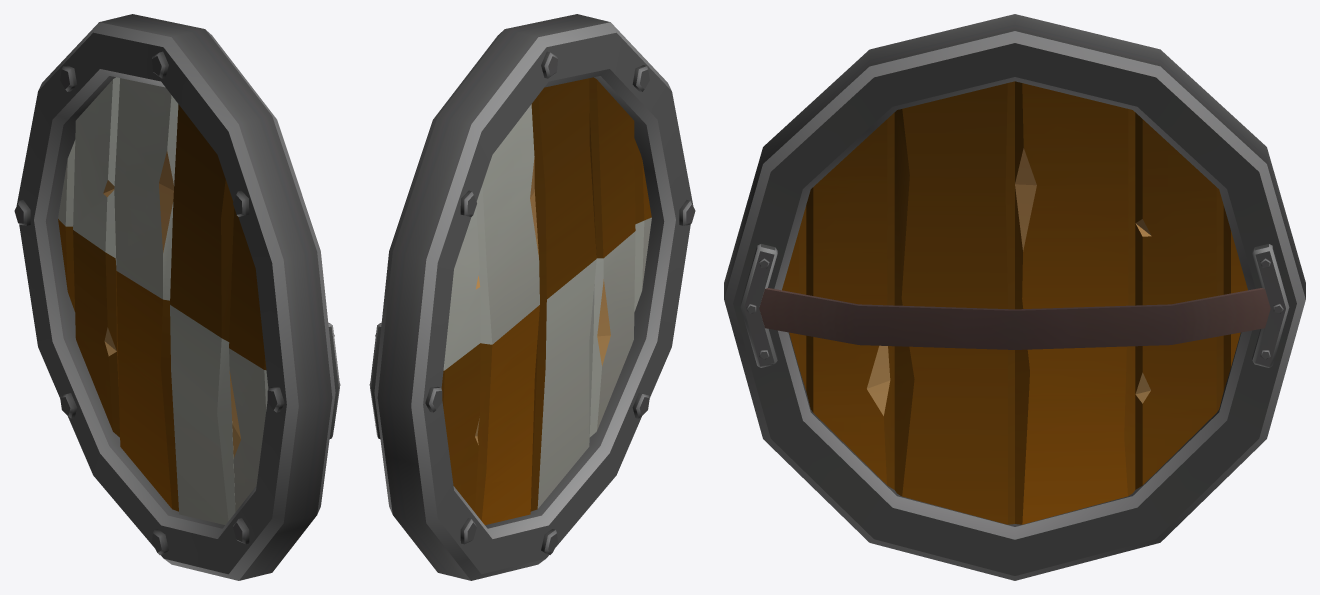
The model's file is Shield_1_E.glb.
3 views of the same model, side by side, from view 1: azimuth 30°, elevation 25°; view 2: azimuth 150°, elevation 25°; view 3: azimuth 270°, elevation 25° (orthographic). The views are drawn at different scales.
Parts seen in each view (by area): view 1: Shield_1_E; view 2: Shield_1_E; view 3: Shield_1_E.
Part boxes in pixels (<box>): Shield_1_E: <box>14,14,340,580</box>; Shield_1_E: <box>369,14,695,580</box>; Shield_1_E: <box>724,14,1305,580</box>.
Bounding box in the file's own units: 0.1518 × 0.7075 × 0.6784.
2 materials, 2 textured.
